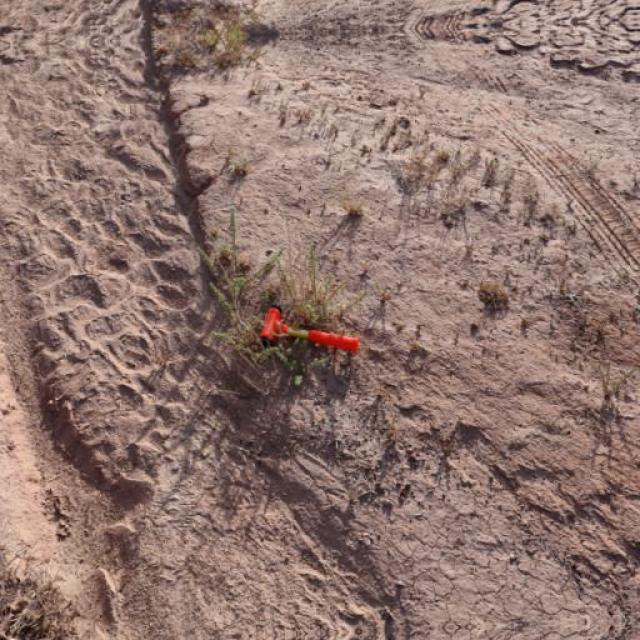mallet: (258, 304, 360, 355)
